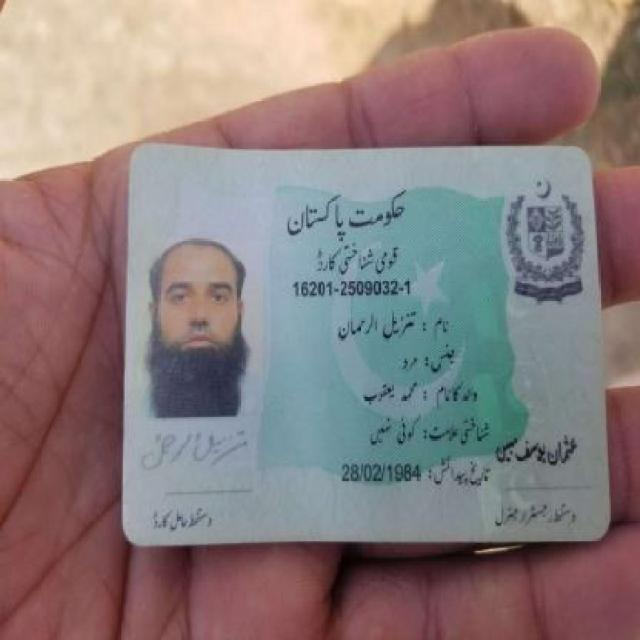Front: (111, 135, 618, 554)
